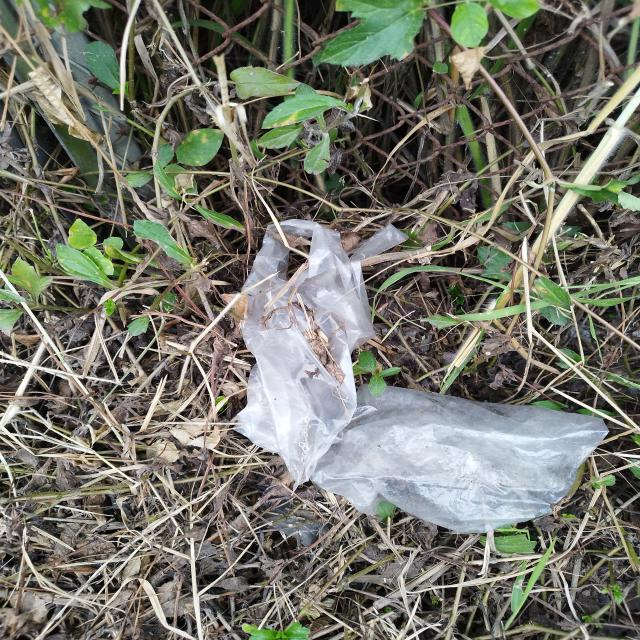bag: (233, 218, 606, 530)
